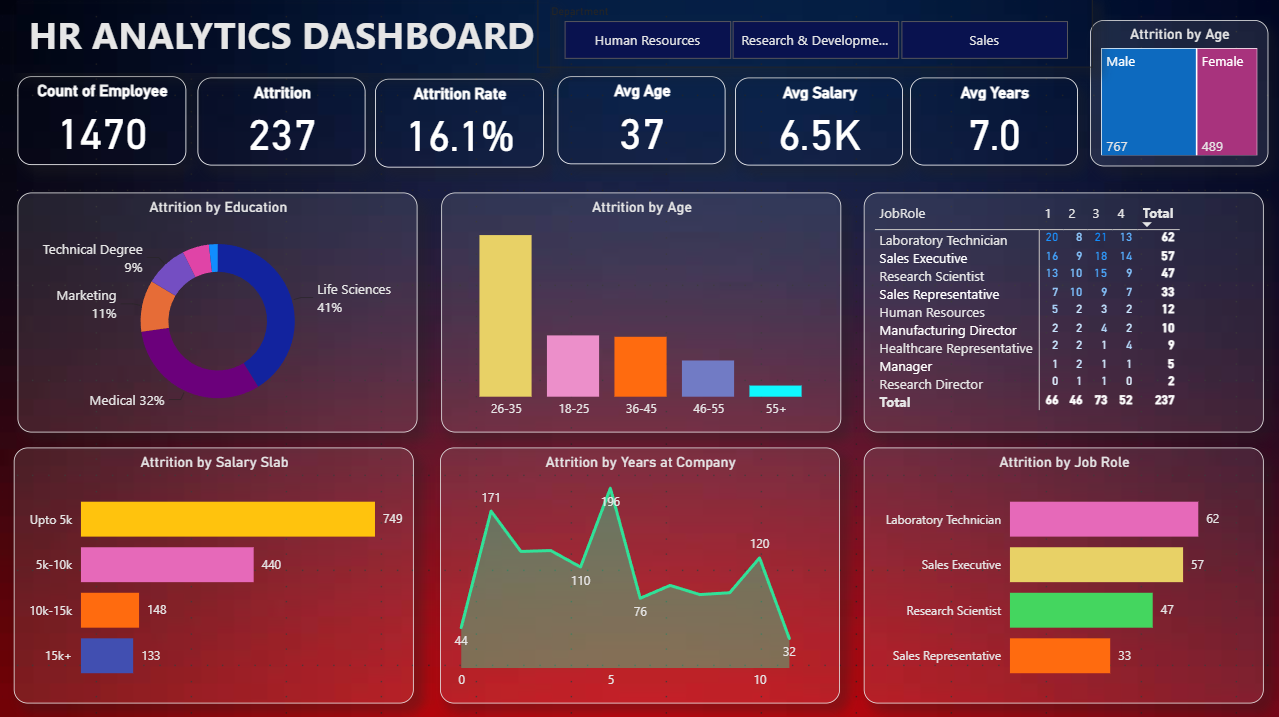

The page's visual inventory and layout, read from the dashboard file:
{"tool":"powerbi","page":{"name":"Page 1","canvas":[1280,720],"ordinal":0},"visuals":[{"type":"card","title":"Count of Employee","fields":{"Values":["CountNonNull(HR_Analytics.EmpID)"]},"box":[17.1,76.6,168.6,88.6],"z":0},{"type":"card","title":"Attrition","fields":{"Values":["Sum(HR_Analytics.AttritionCount)"]},"box":[197.3,77.9,168.3,88.3],"z":1000},{"type":"card","title":"Attrition Rate","fields":{"Values":["HR_Analytics.AttritionRate"]},"box":[375.1,79,168.6,88.6],"z":2000},{"type":"card","title":"Avg Age","fields":{"Values":["Avg(HR_Analytics.Age)"]},"box":[557.3,76.3,168.3,88.3],"z":3000},{"type":"card","title":"Avg Salary","fields":{"Values":["Avg(HR_Analytics.MonthlyIncome)"]},"box":[735.6,77.9,168.3,88.3],"z":4000},{"type":"card","title":"Avg Years","fields":{"Values":["Avg(HR_Analytics.YearsAtCompany)"]},"box":[910.6,77.9,168.3,88.3],"z":5000},{"type":"donutChart","title":"Attrition by Education","fields":{"Category":["HR_Analytics.EducationField"],"Y":["CountNonNull(HR_Analytics.Attrition)"]},"box":[17.5,192.5,400,240],"z":6000},{"type":"pivotTable","fields":{"Rows":["HR_Analytics.JobRole"],"Columns":["HR_Analytics.JobSatisfaction"],"Values":["Sum(HR_Analytics.AttritionCount)"]},"box":[864,192,400,240],"z":8000},{"type":"barChart","title":"Attrition by Salary Slab","fields":{"Category":["HR_Analytics.SalarySlab"],"Y":["CountNonNull(HR_Analytics.Attrition)"]},"box":[13.8,447.5,400,256.2],"z":9000},{"type":"barChart","title":"Attrition by Job Role","fields":{"Category":["HR_Analytics.JobRole"],"Y":["Sum(HR_Analytics.AttritionCount)"]},"box":[863.8,447.5,400,256.2],"z":10000},{"type":"areaChart","title":"Attrition by Years at Company","fields":{"Category":["HR_Analytics.YearsAtCompany"],"Y":["CountNonNull(HR_Analytics.Attrition)"]},"box":[440,447.5,400,256.2],"z":11000},{"type":"treemap","title":"Attrition by Age","fields":{"Group":["HR_Analytics.Gender"],"Values":["CountNonNull(HR_Analytics.Attrition)"]},"box":[1090.6,19.6,178.3,146.7],"z":12000},{"type":"slicer","fields":{"Values":["HR_Analytics.Department"]},"box":[537.4,-1.6,554.9,68.6],"z":13000},{"type":"textbox","box":[13.7,4.1,535.7,68.6],"z":14000},{"type":"columnChart","title":"Attrition by Age","fields":{"Category":["HR_Analytics.AgeGroup"],"Y":["Sum(HR_Analytics.AttritionCount)"]},"box":[441.2,192.5,400,240],"z":14001}]}

Visuals, with their boxes in screenshot pixels (x1, y1, x2, y2), scaled from the page's 1280x720 canvas onto the 1279x717 screenshot:
"Count of Employee" card: rect(17, 76, 186, 165)
"Attrition" card: rect(197, 78, 365, 166)
"Attrition Rate" card: rect(375, 79, 543, 167)
"Avg Age" card: rect(557, 76, 725, 164)
"Avg Salary" card: rect(735, 78, 903, 166)
"Avg Years" card: rect(910, 78, 1078, 166)
"Attrition by Education" donutChart: rect(17, 192, 417, 431)
pivotTable - HR_Analytics.JobRole x HR_Analytics.JobSatisfaction: rect(863, 191, 1263, 430)
"Attrition by Salary Slab" barChart: rect(14, 446, 413, 701)
"Attrition by Job Role" barChart: rect(863, 446, 1263, 701)
"Attrition by Years at Company" areaChart: rect(440, 446, 839, 701)
"Attrition by Age" treemap: rect(1090, 20, 1268, 166)
slicer - HR_Analytics.Department: rect(537, 0, 1091, 67)
textbox: rect(14, 4, 549, 72)
"Attrition by Age" columnChart: rect(441, 192, 841, 431)
